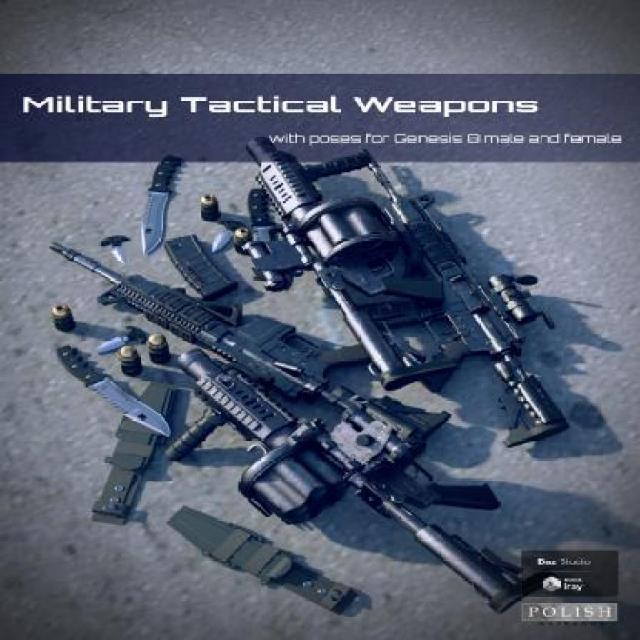Grenade: (119, 343, 143, 379), (50, 302, 78, 332), (148, 332, 172, 363), (234, 227, 257, 256), (200, 194, 222, 223)
Gun: (165, 348, 552, 617), (366, 158, 571, 451), (244, 132, 462, 392)
Knife: (166, 503, 362, 617), (89, 381, 180, 525), (54, 343, 172, 440), (142, 154, 184, 258), (248, 184, 280, 244), (212, 218, 243, 254)
